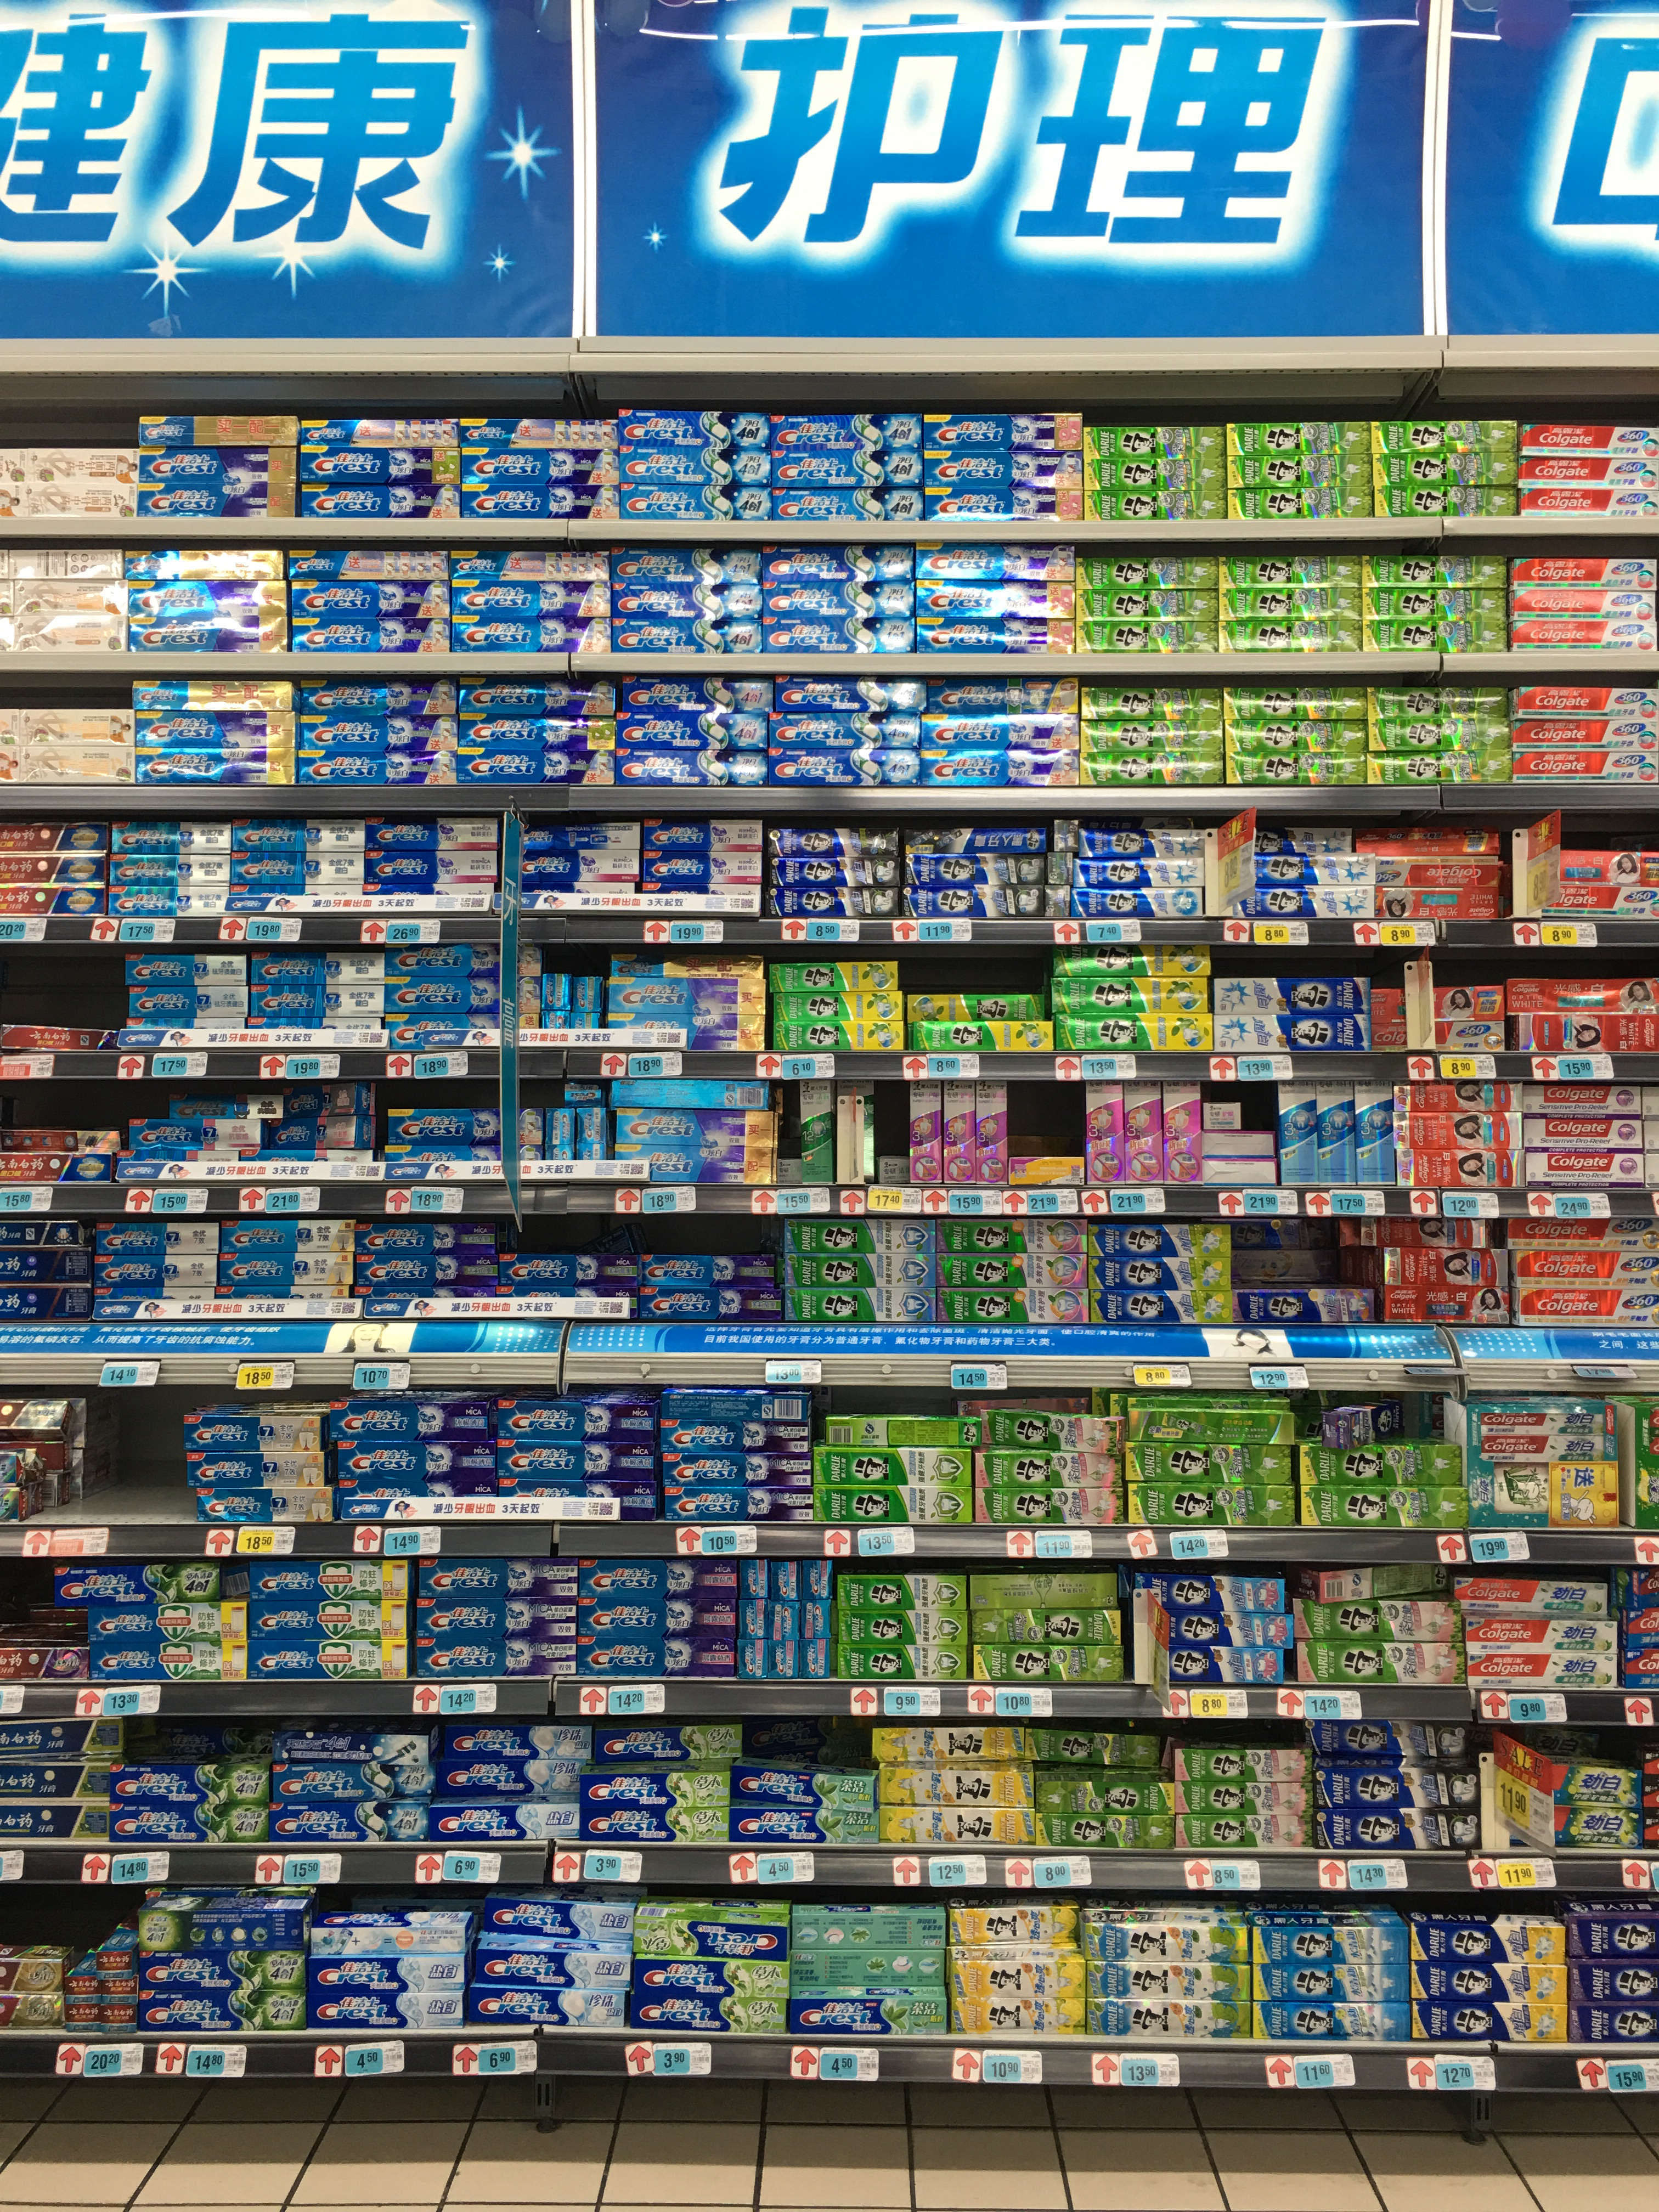Misplacement: (1232, 1217, 1373, 1324)
Out-of-stock: (85, 1385, 183, 1522)
